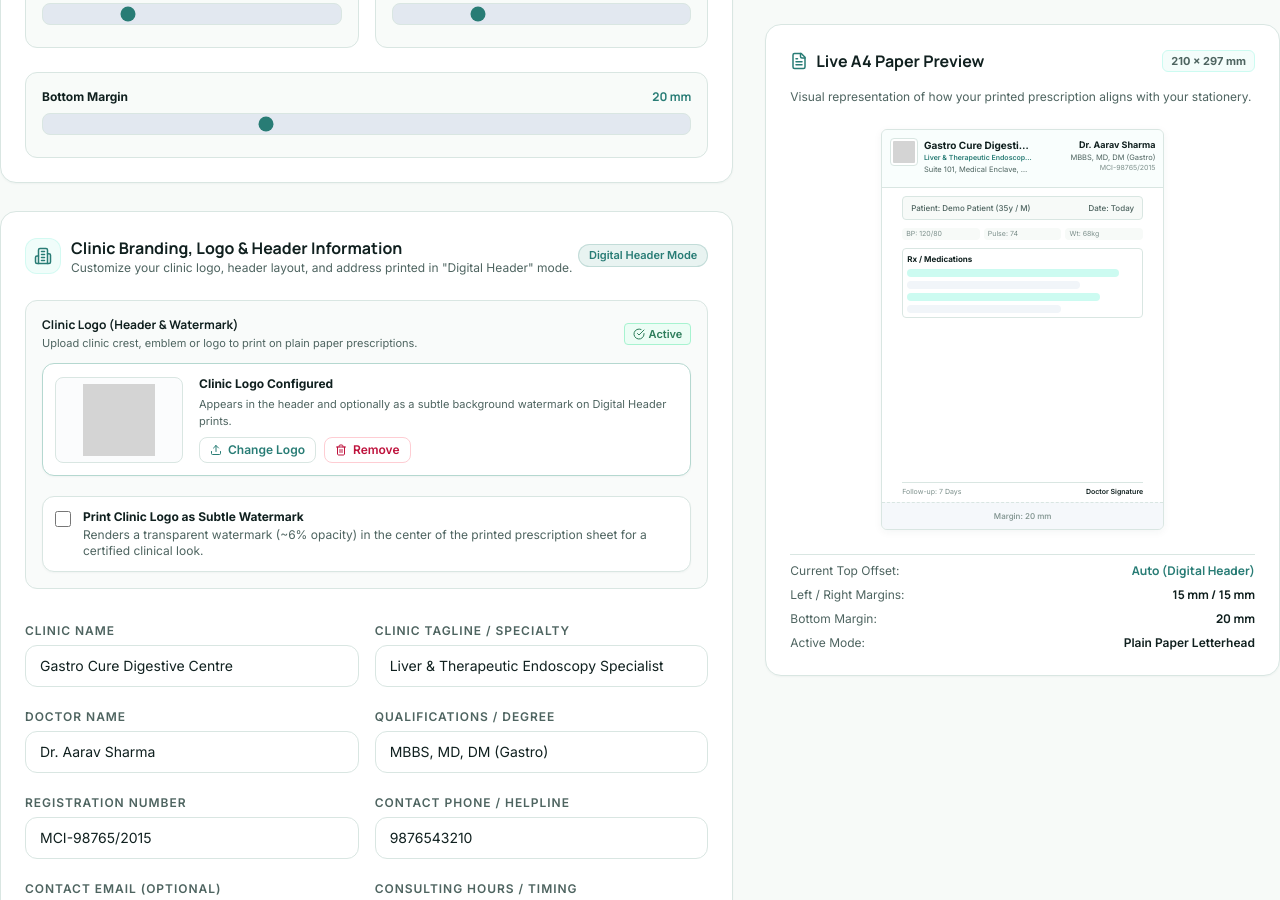
Clinic Logo & Digital Header Customizer Tests › 1. Settings - Logo Upload, Watermark & Address Customization › allows removing an active logo
(page scrolled)
Expected: the text "Clinic Logo Configured" is shown, x1=199 y1=376 x2=333 y2=391
Step 1. Click the button with aria-label "Remove Clinic Logo" → (367, 450), box x1=324 y1=437 x2=411 y2=463
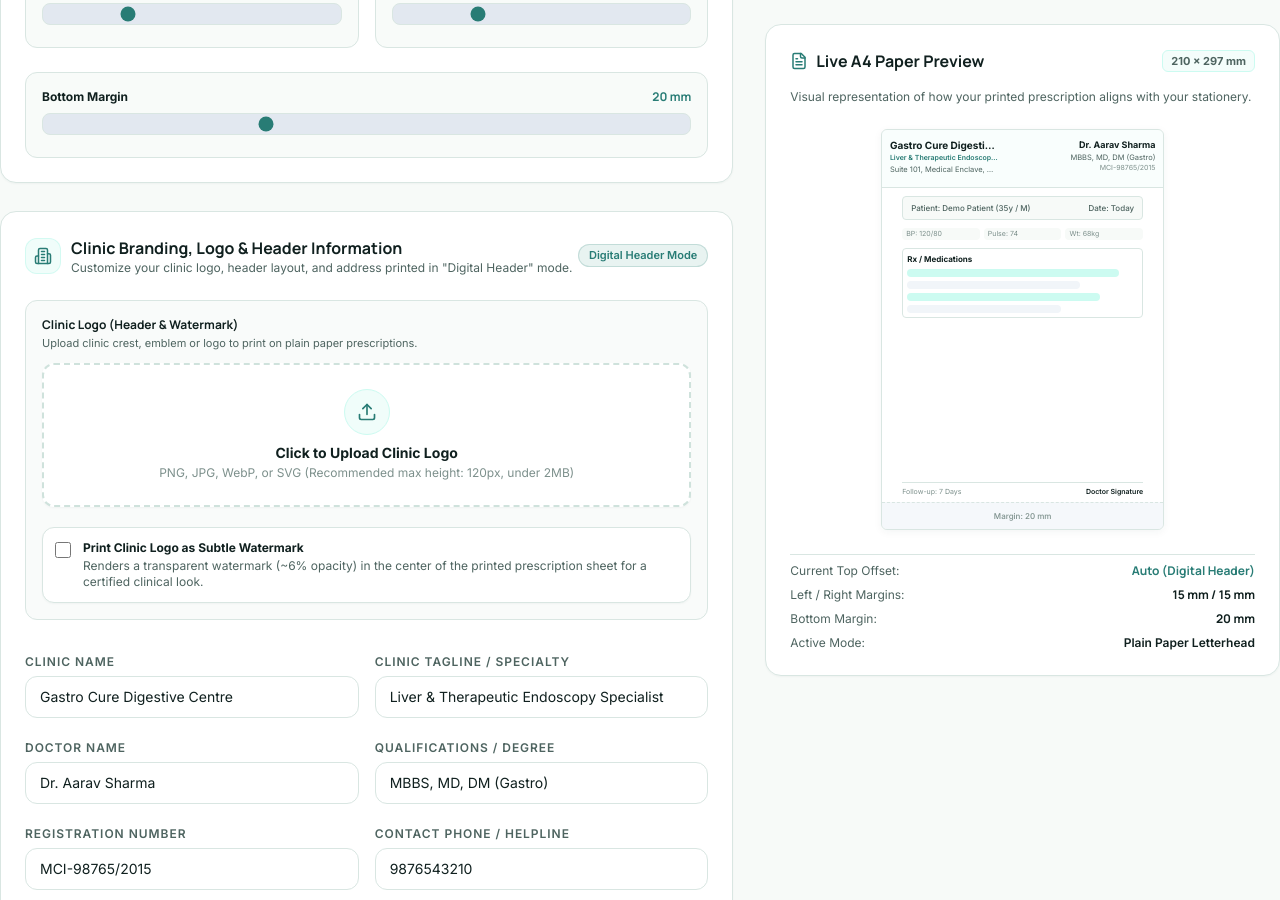
Result: the text "Clinic Logo Configured" is gone
Result: the text "Click to Upload Clinic Logo" is shown at x1=276 y1=443 x2=458 y2=463
